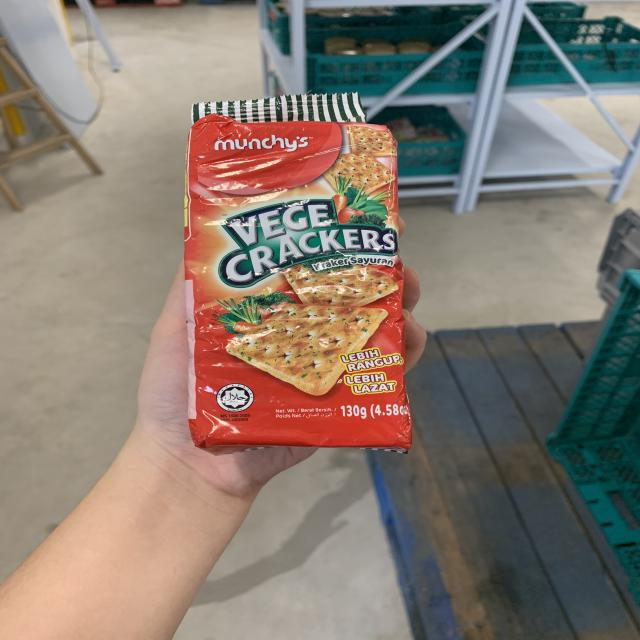object_name: (188, 100, 402, 447)
